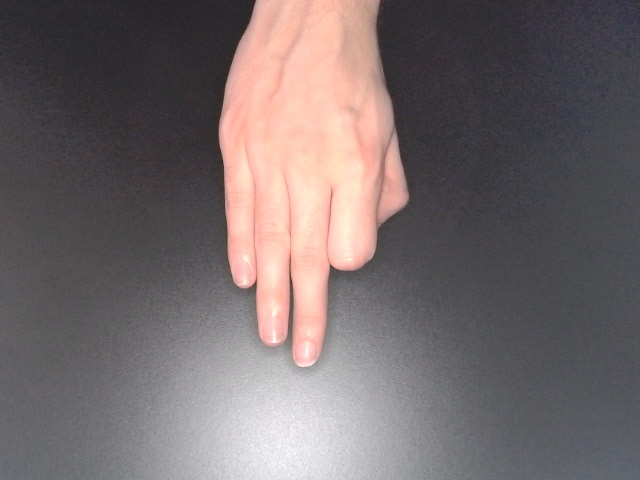m: (209, 1, 417, 375)
